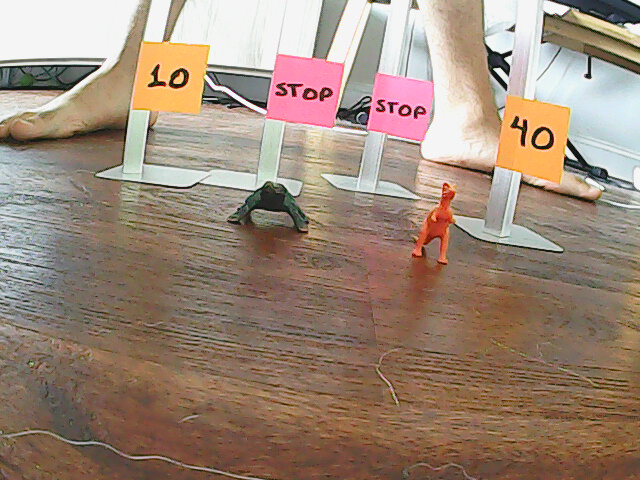10: (140, 49, 200, 106)
40: (504, 106, 565, 168)
dinosaur: (407, 177, 459, 268)
stop: (273, 64, 336, 117), (375, 83, 431, 131)
turtle: (223, 178, 313, 235)
